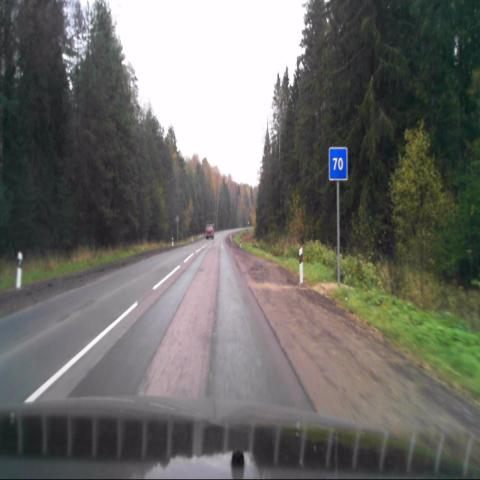6_2: (328, 147, 349, 181)
